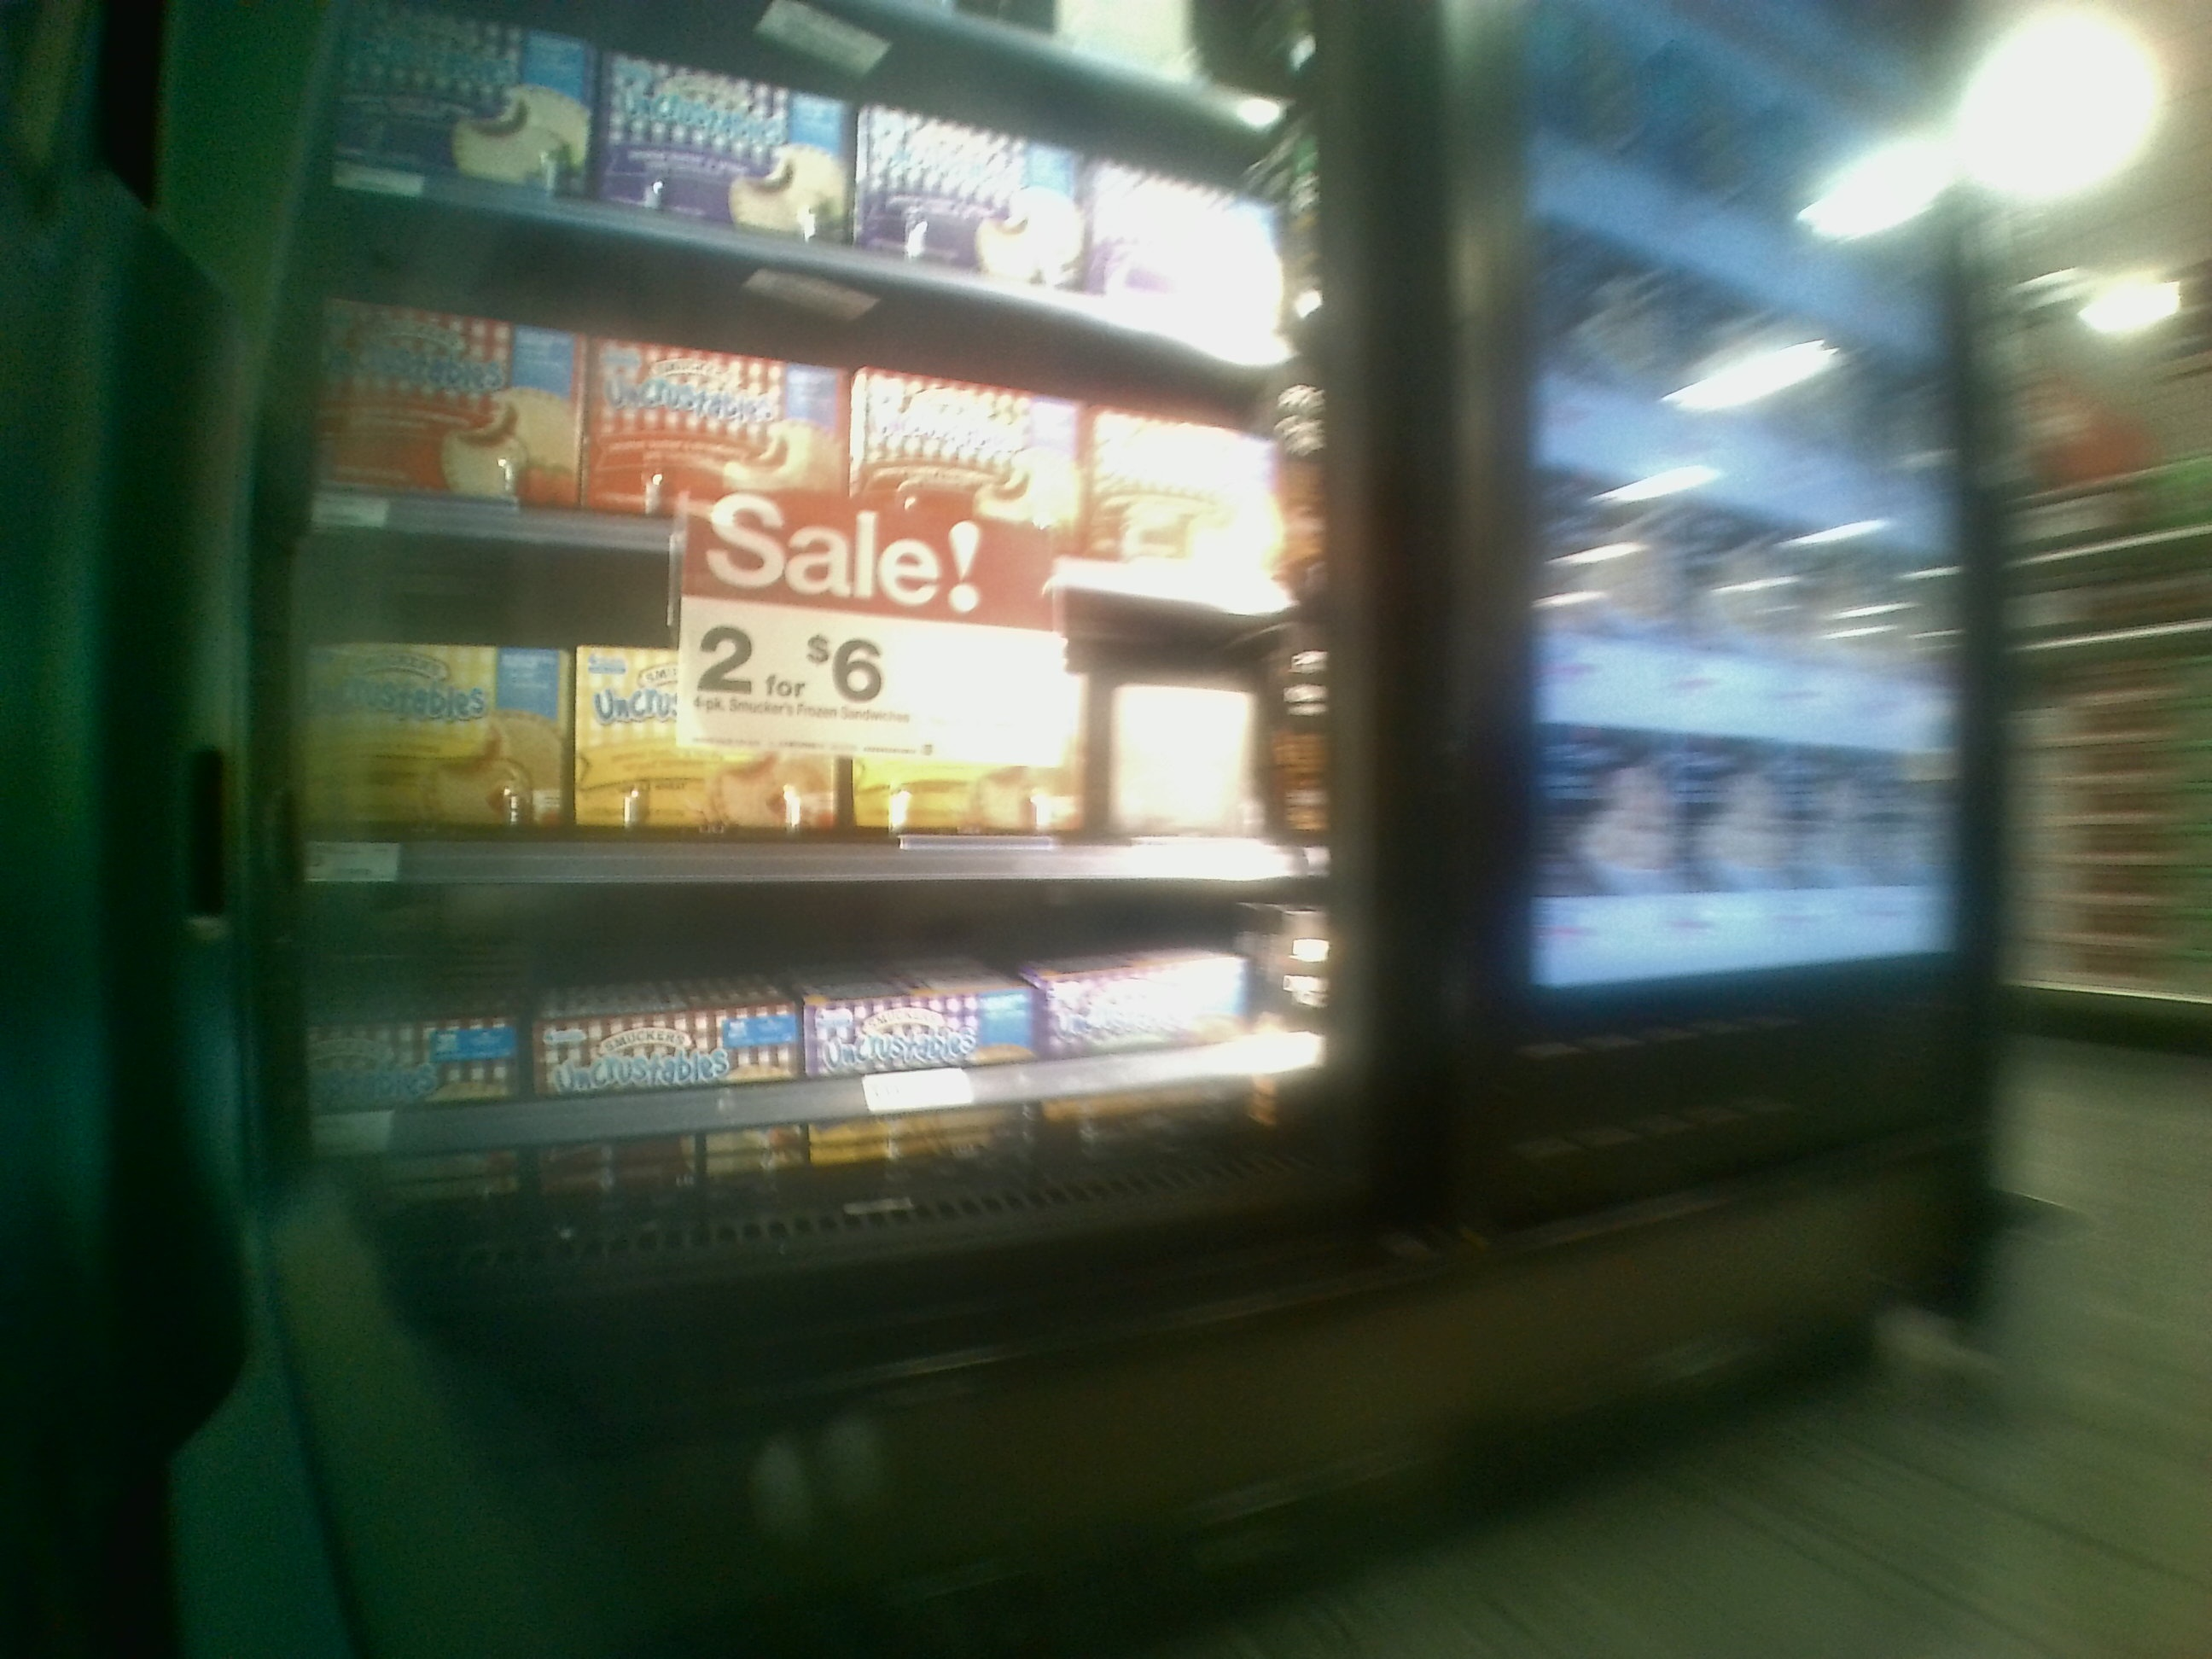shelf: (286, 878, 1364, 1342), (289, 225, 1313, 589), (284, 535, 1353, 884)
